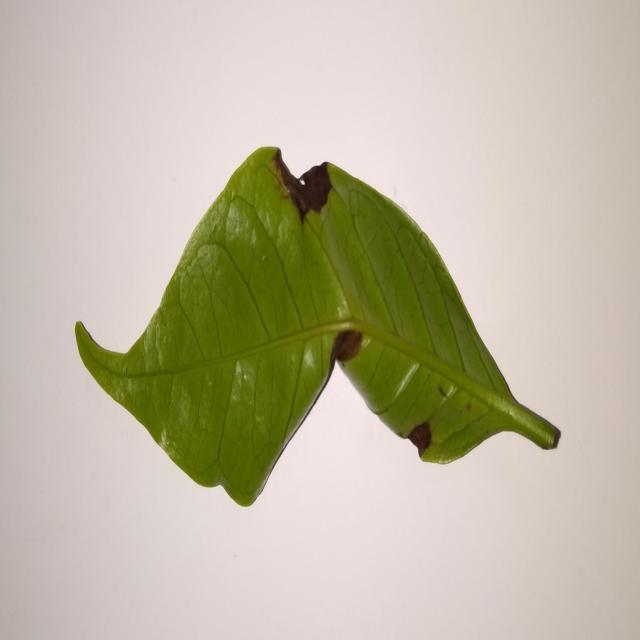Enfermedad-Antracnosis: (72, 147, 562, 510)
